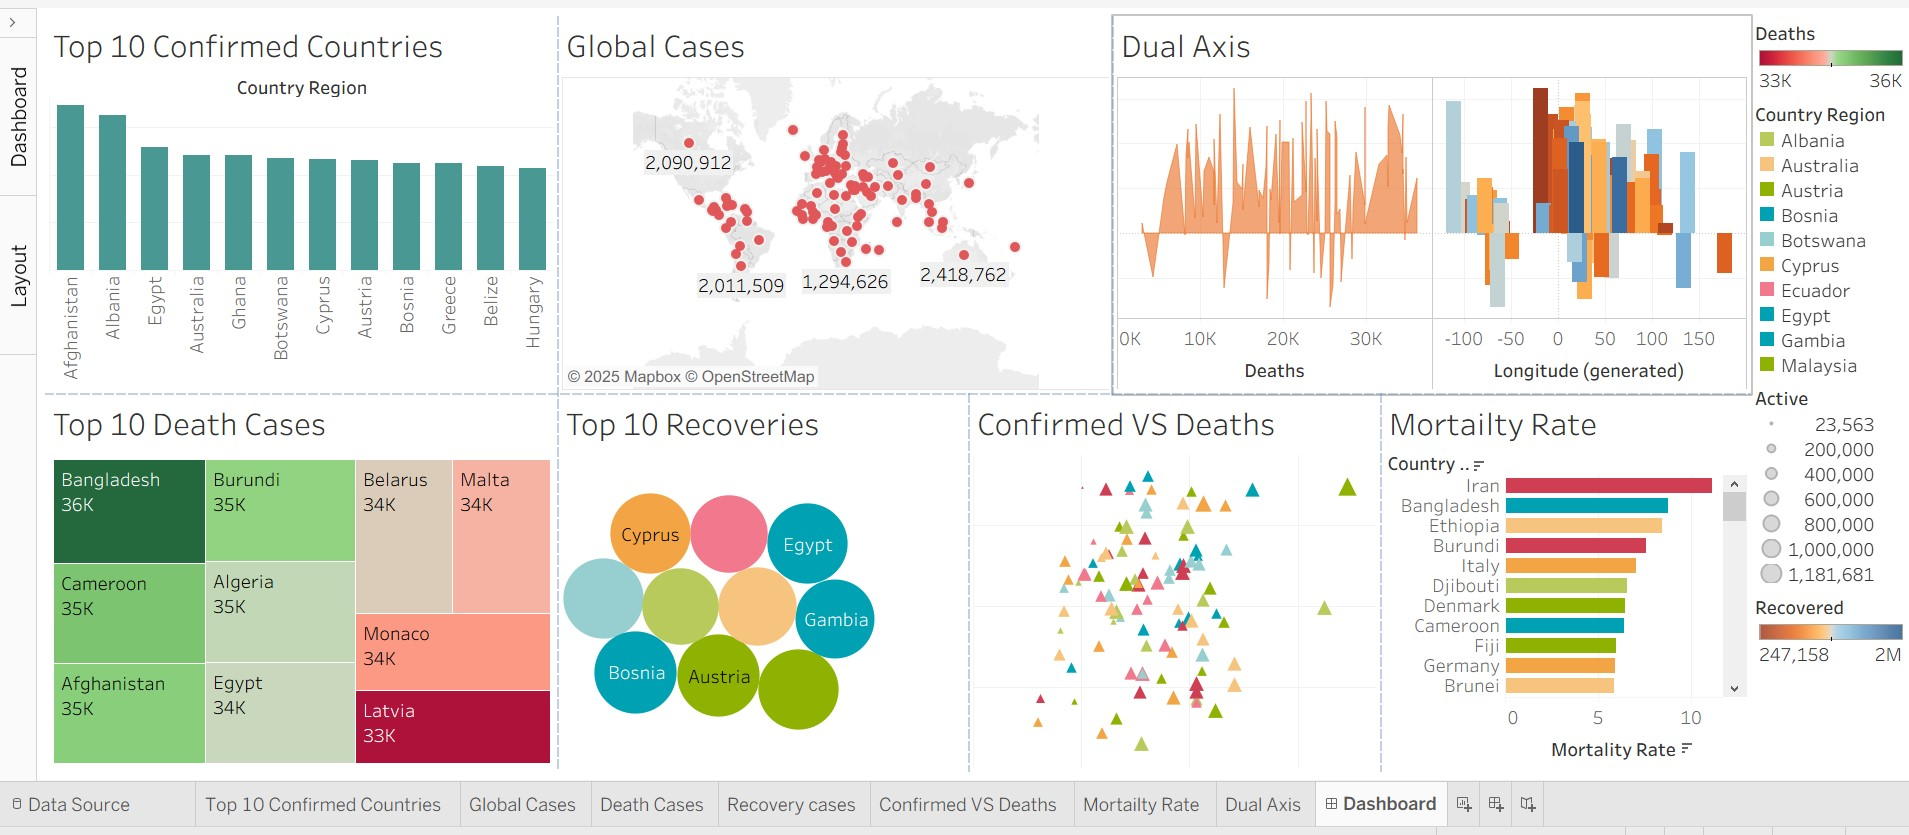

The page's visual inventory and layout, read from the dashboard file:
{"tool":"tableau","page":{"name":"Dashboard","canvas":[1000,1000],"units":"permille","ordinal":0},"visuals":[{"type":"worksheet","title":"Top 10 Confirmed Countries","mark":"Automatic","rows":["Confirmed"],"cols":["Country Region"],"box":[4.2,10.4,272.3,489.6]},{"type":"worksheet","title":"Global Cases","mark":"Automatic","box":[276.6,10.4,295.4,489.6]},{"type":"worksheet","title":"Dual Axis","mark":"Bar","cols":["Deaths"],"box":[571.9,10.4,338.8,489.6]},{"type":"legend","title":"Death Cases","param":"[federated.0sapleb026lf3t112qqhu0hziyos].[sum:Deaths:qk]","box":[910.7,10.4,85,104.9]},{"type":"legend","title":"Recovery cases","param":"[federated.0sapleb026lf3t112qqhu0hziyos].[none:Country Region:nk]","box":[910.7,115.3,85,367.9]},{"type":"legend","title":"Confirmed VS Deaths","param":"[federated.0sapleb026lf3t112qqhu0hziyos].[sum:Active:qk]","box":[910.7,483.2,85,270.7]},{"type":"worksheet","title":"Death Cases","mark":"Automatic","box":[4.2,500,272.3,489.7]},{"type":"worksheet","title":"Recovery cases","mark":"Circle","box":[276.6,500,218.8,489.7]},{"type":"worksheet","title":"Confirmed VS Deaths","mark":"Automatic","rows":["Deaths"],"cols":["Confirmed"],"box":[495.4,500,218.8,489.7]},{"type":"worksheet","title":"Mortailty Rate","mark":"Automatic","rows":["Country Region"],"cols":["Mortality Rate"],"box":[714.2,500,196.5,489.7]},{"type":"legend","title":"Dual Axis","param":"[federated.0sapleb026lf3t112qqhu0hziyos].[sum:Recovered:qk]","box":[910.7,753.9,85,104.9]}]}

Visuals, with their boxes on the dashboard's canvas, which has no fixed pixel size, in thousandths of its width and height (x1, y1, x2, y2). These are canvas units, not pixel positions in the 1909x835 screenshot, which may show the page scaled, cropped or inside an application window:
"Top 10 Confirmed Countries" worksheet: locate(4, 10, 276, 500)
"Global Cases" worksheet: locate(277, 10, 572, 500)
"Dual Axis" worksheet (Bar marks): locate(572, 10, 911, 500)
"Death Cases" legend: locate(911, 10, 996, 115)
"Recovery cases" legend: locate(911, 115, 996, 483)
"Confirmed VS Deaths" legend: locate(911, 483, 996, 754)
"Death Cases" worksheet: locate(4, 500, 276, 990)
"Recovery cases" worksheet (Circle marks): locate(277, 500, 495, 990)
"Confirmed VS Deaths" worksheet: locate(495, 500, 714, 990)
"Mortailty Rate" worksheet: locate(714, 500, 911, 990)
"Dual Axis" legend: locate(911, 754, 996, 859)
